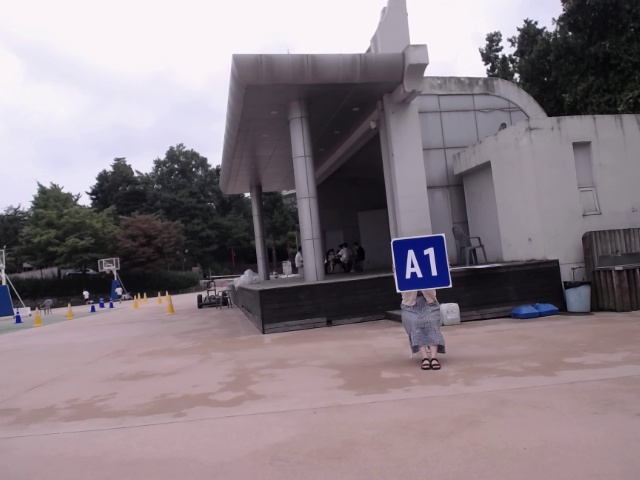delivery_a1: (392, 234, 451, 293)
